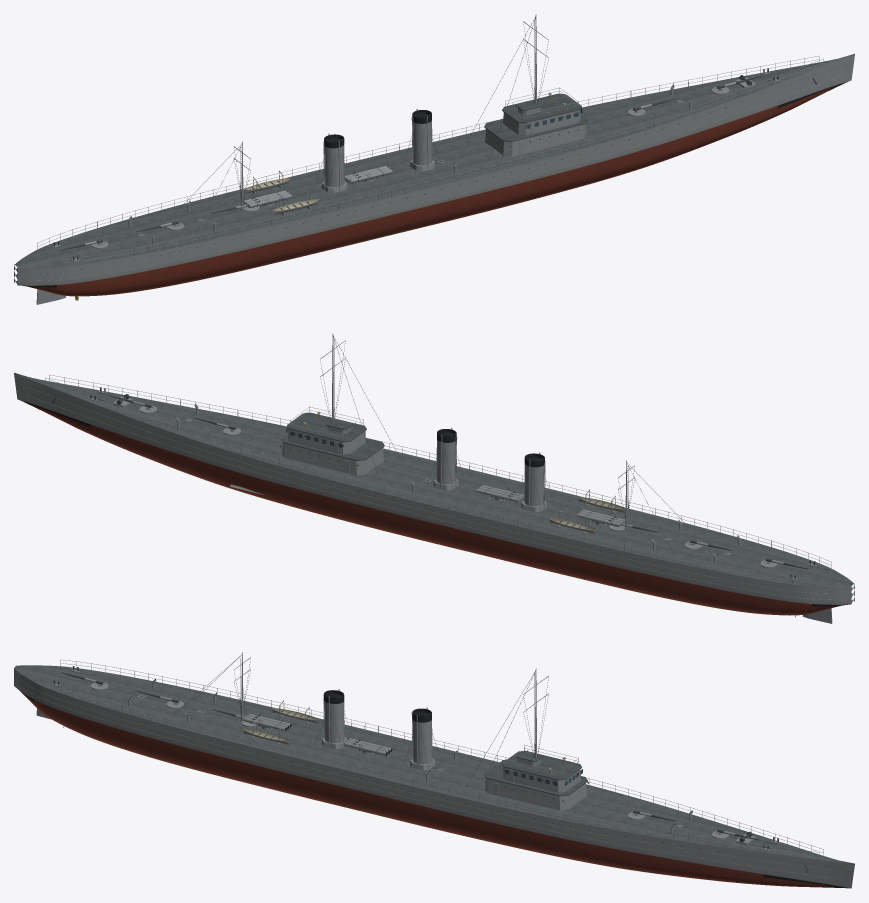
File: fallback-dl.glb
3 renders of one model, top to bottom at view 1: azimuth 30°, elevation 25°; view 2: azimuth 150°, elevation 25°; view 3: azimuth 330°, elevation 25°, orthographic.
Visible parts, largest first — view 1: Original DL custom-design concept; view 2: Original DL custom-design concept; view 3: Original DL custom-design concept.
Part boxes in pixels (x1,y1,x2,y2): Original DL custom-design concept: [14, 14, 854, 304]; Original DL custom-design concept: [14, 333, 854, 623]; Original DL custom-design concept: [14, 652, 854, 888].
Size of the model in its own units: 126 by 24.54 by 12.19.
9 materials, 8 textured.
